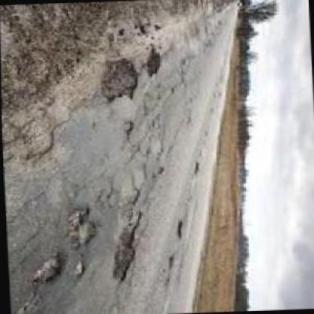Hueco: (109, 214, 148, 284), (100, 57, 139, 102), (65, 207, 97, 248), (28, 254, 65, 286), (145, 46, 164, 79), (73, 259, 85, 278)
